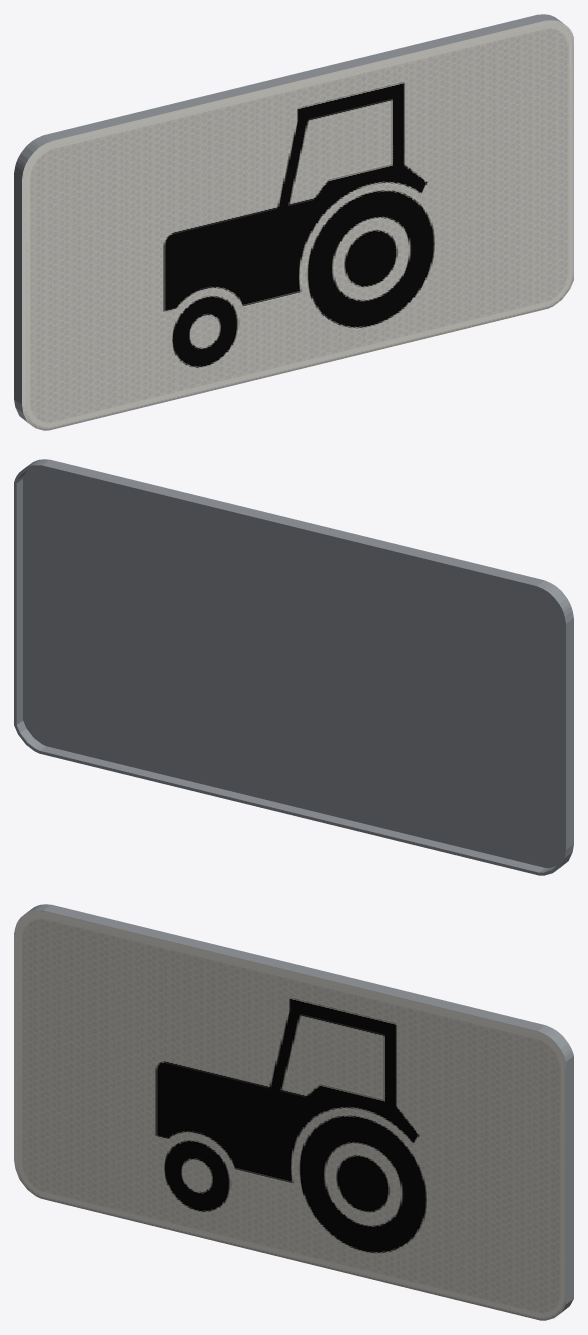
The picture shows the model from 3 angles, top to bottom: view 1: azimuth 30°, elevation 25°; view 2: azimuth 150°, elevation 25°; view 3: azimuth 330°, elevation 25°; orthographic projection.
Visible parts, largest first — view 1: cat_e916fb5784c3abcb; view 2: cat_e916fb5784c3abcb; view 3: cat_e916fb5784c3abcb.
Boxes of the visible parts, left/top/right/bottom form: cat_e916fb5784c3abcb: left=14, top=14, right=573, bottom=430; cat_e916fb5784c3abcb: left=14, top=459, right=573, bottom=875; cat_e916fb5784c3abcb: left=14, top=904, right=573, bottom=1320.
Size of the model in its own units: 0.6 by 0.015 by 0.3.
2 materials, 1 textured.
